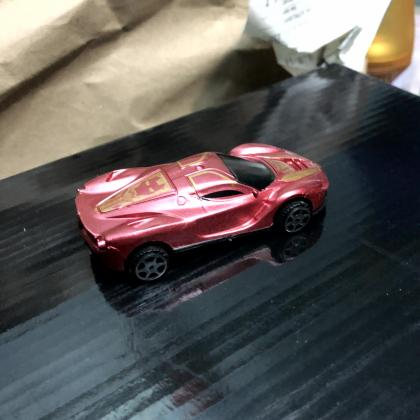Car: (75, 143, 328, 284)
